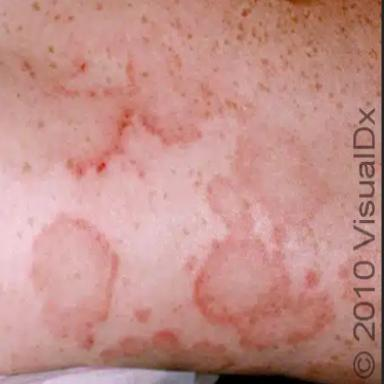Tinea-Corporis: (95, 129, 337, 374), (0, 0, 256, 184), (30, 210, 119, 349), (133, 305, 152, 322)
